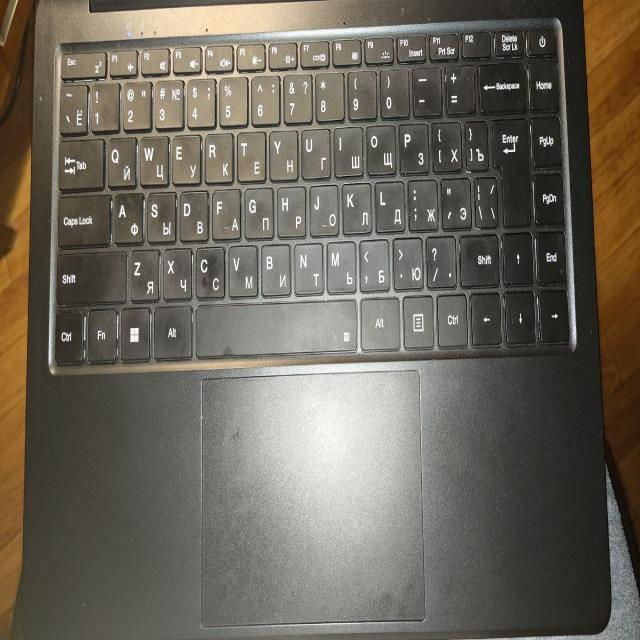other: (357, 556, 426, 625), (460, 220, 500, 296), (182, 237, 228, 300), (212, 340, 242, 372), (439, 556, 456, 596), (231, 427, 244, 450)
